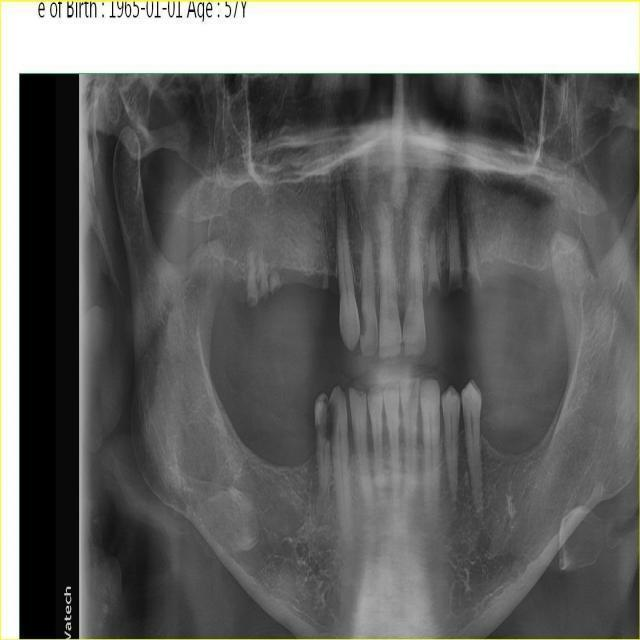Caries: (316, 394, 329, 442), (330, 400, 339, 448), (361, 307, 369, 337)
Missing teeth: (236, 400, 315, 471), (477, 400, 546, 457), (489, 255, 552, 307), (281, 268, 321, 304), (219, 254, 246, 301)
Periapical lesion: (440, 169, 467, 219), (331, 166, 350, 224)
Root Piece: (446, 173, 464, 285), (464, 205, 482, 283), (428, 228, 442, 293), (248, 249, 257, 307), (257, 256, 267, 297), (269, 265, 283, 289), (322, 254, 331, 289)
